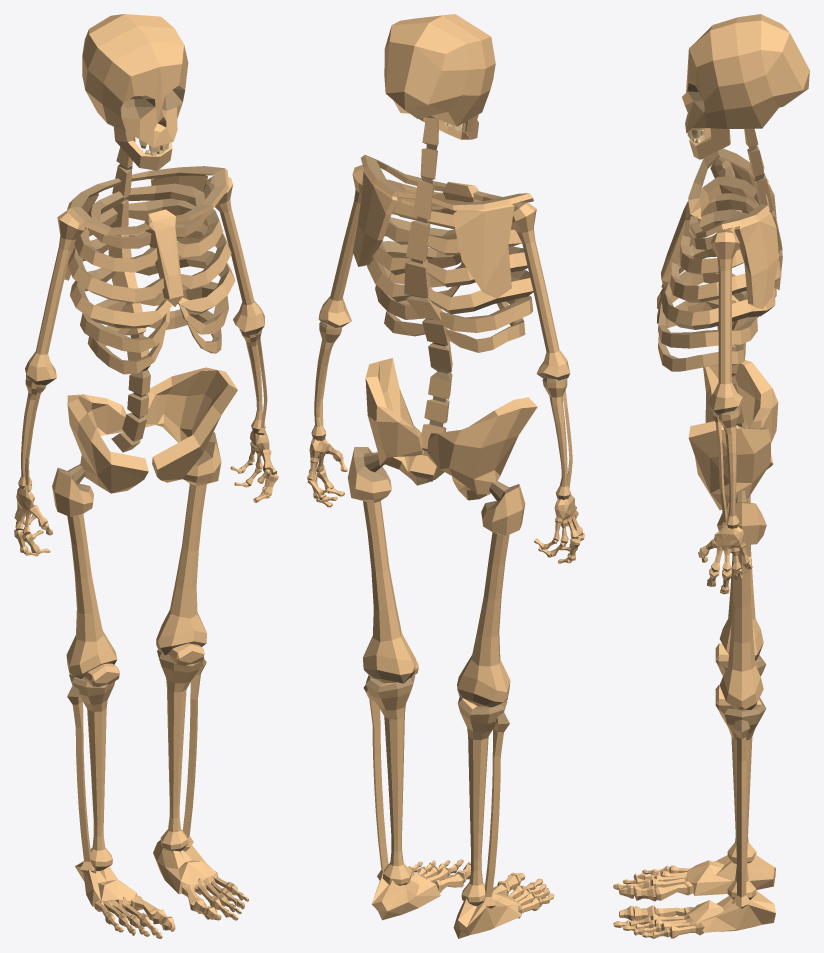
Rendered from WF_LP_HT_Characters_Skeleton.fbx.
The picture shows the model from 3 angles, left to right: view 1: azimuth 30°, elevation 25°; view 2: azimuth 150°, elevation 25°; view 3: azimuth 270°, elevation 25°; orthographic projection. The views are drawn at different scales.
Visible parts, largest first — view 1: WF_LP_HT_Characters_Skeleton; view 2: WF_LP_HT_Characters_Skeleton; view 3: WF_LP_HT_Characters_Skeleton.
Part boxes in pixels (x1=…): WF_LP_HT_Characters_Skeleton: x1=14, y1=14, x2=278, y2=938; WF_LP_HT_Characters_Skeleton: x1=307, y1=14, x2=584, y2=938; WF_LP_HT_Characters_Skeleton: x1=613, y1=14, x2=809, y2=938.
Bounding box in the file's own units: 0.5631 × 1.8 × 0.3603.
